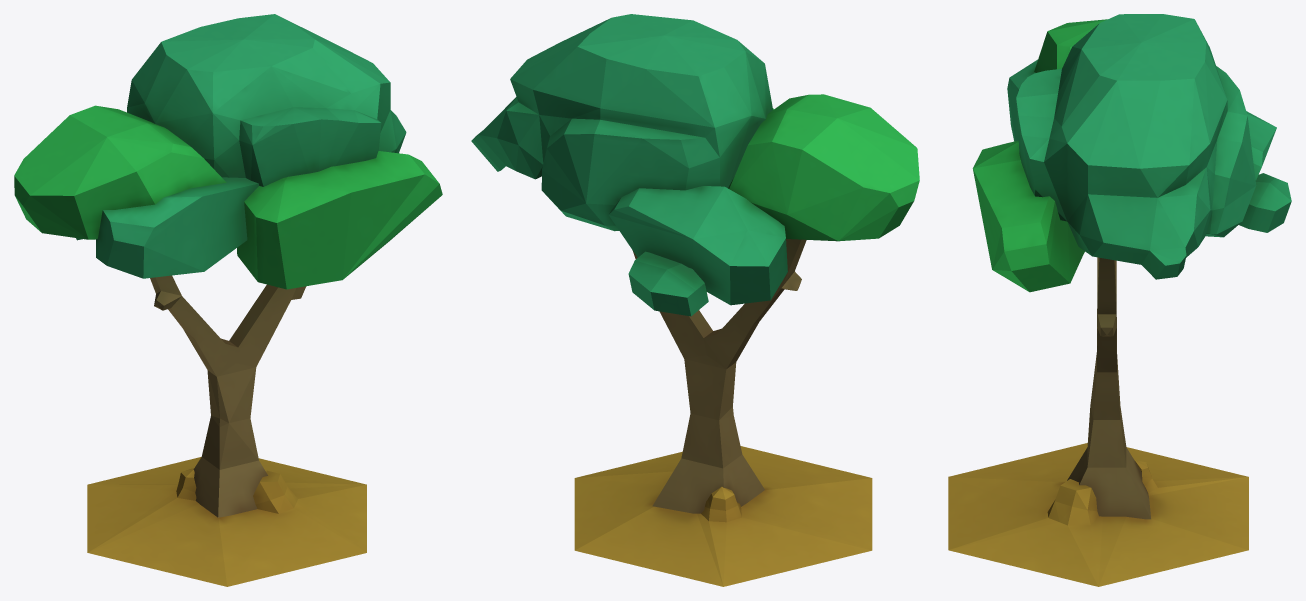
File: shu2.FBX
3 renders of one model, left to right at view 1: azimuth 30°, elevation 25°; view 2: azimuth 150°, elevation 25°; view 3: azimuth 270°, elevation 25°, orthographic. The views are drawn at different scales.
Parts seen in each view (by area): view 1: FOL_Foliage_02; view 2: FOL_Foliage_02; view 3: FOL_Foliage_02.
Boxes of the visible parts, left/top/right/bottom form: FOL_Foliage_02: left=14, top=14, right=442, bottom=586; FOL_Foliage_02: left=471, top=14, right=919, bottom=586; FOL_Foliage_02: left=948, top=14, right=1291, bottom=586.
Size of the model in its own units: 4.31 by 4.77 by 3.03.
